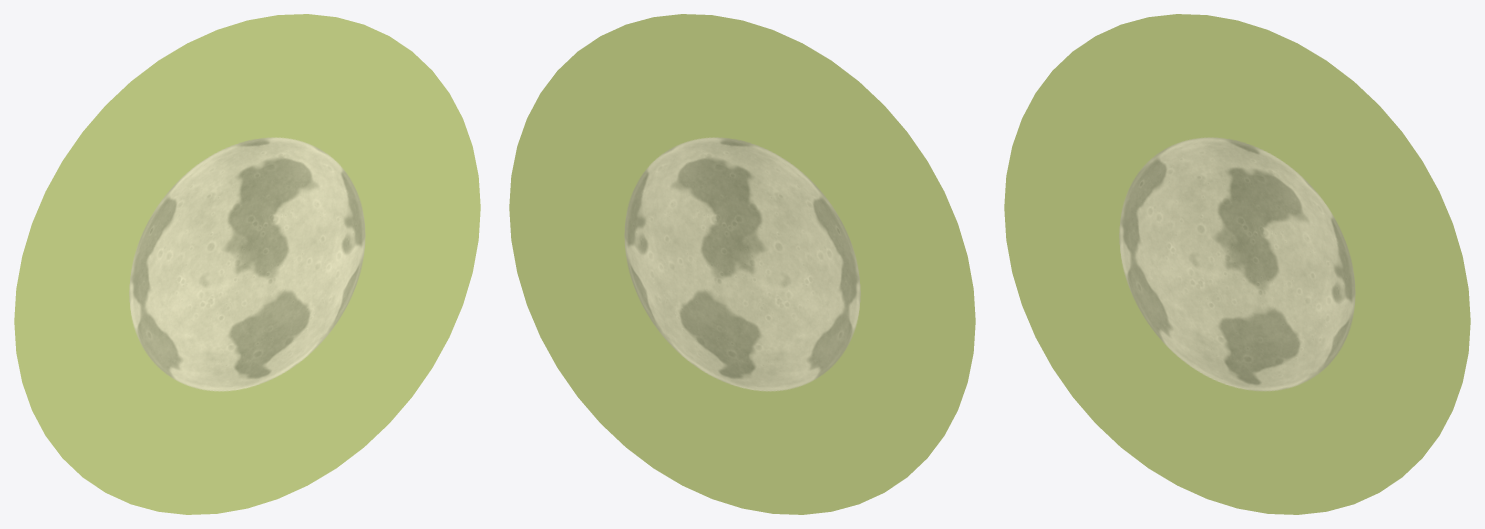
File: sky_moon2.glb
3 renders of one model, left to right at view 1: azimuth 30°, elevation 25°; view 2: azimuth 150°, elevation 25°; view 3: azimuth 330°, elevation 25°, orthographic.
Parts seen in each view (by area): view 1: sky_moon2; view 2: sky_moon2; view 3: sky_moon2.
Boxes of the visible parts, x1=… form: sky_moon2: x1=14, y1=14, x2=480, y2=514; sky_moon2: x1=509, y1=14, x2=975, y2=514; sky_moon2: x1=1004, y1=14, x2=1470, y2=514.
Size of the model in its own units: 2 by 2 by 0.
1 material, 1 textured.
